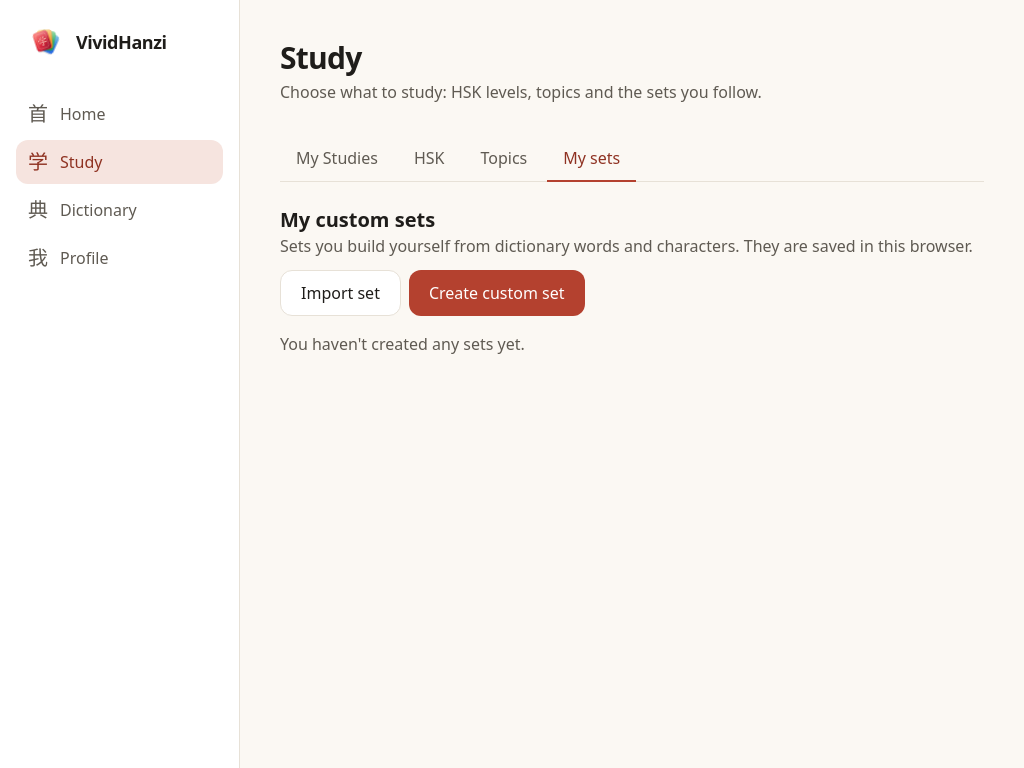
Test case: Custom sets › deletes the set after confirming and returns to the list
Click the link "Create custom set" at x=497, y=293, box [409,270,584,316]
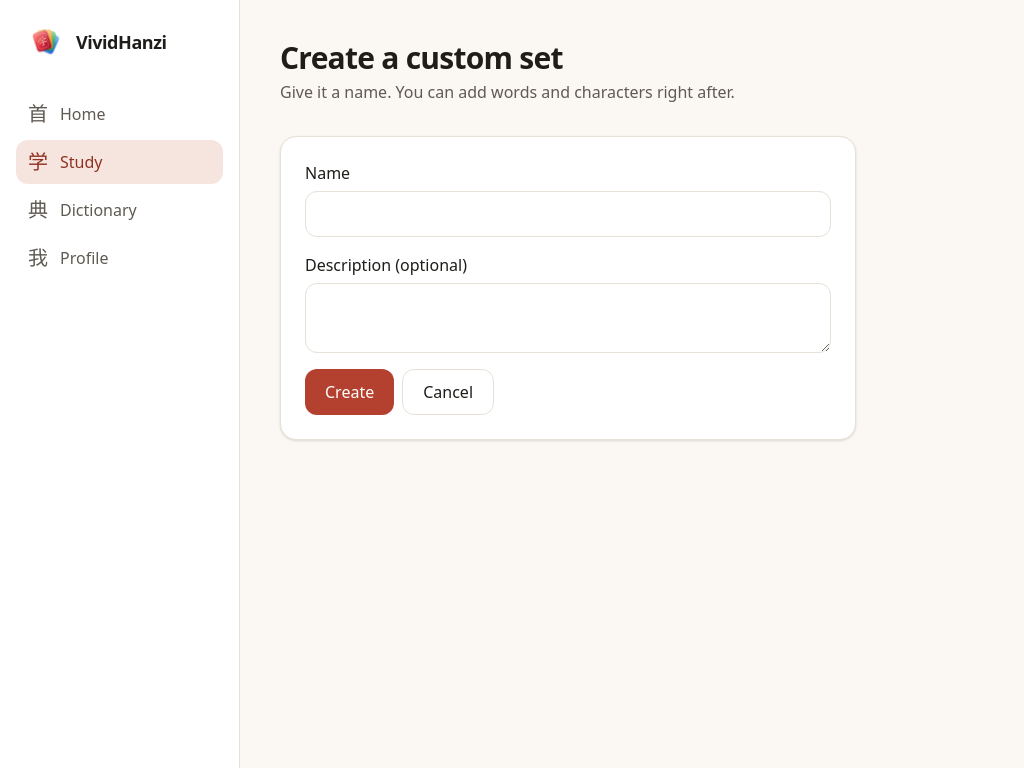
Type "Mine" into the field labelled "Name" at x=568, y=214, box [305,191,831,237]
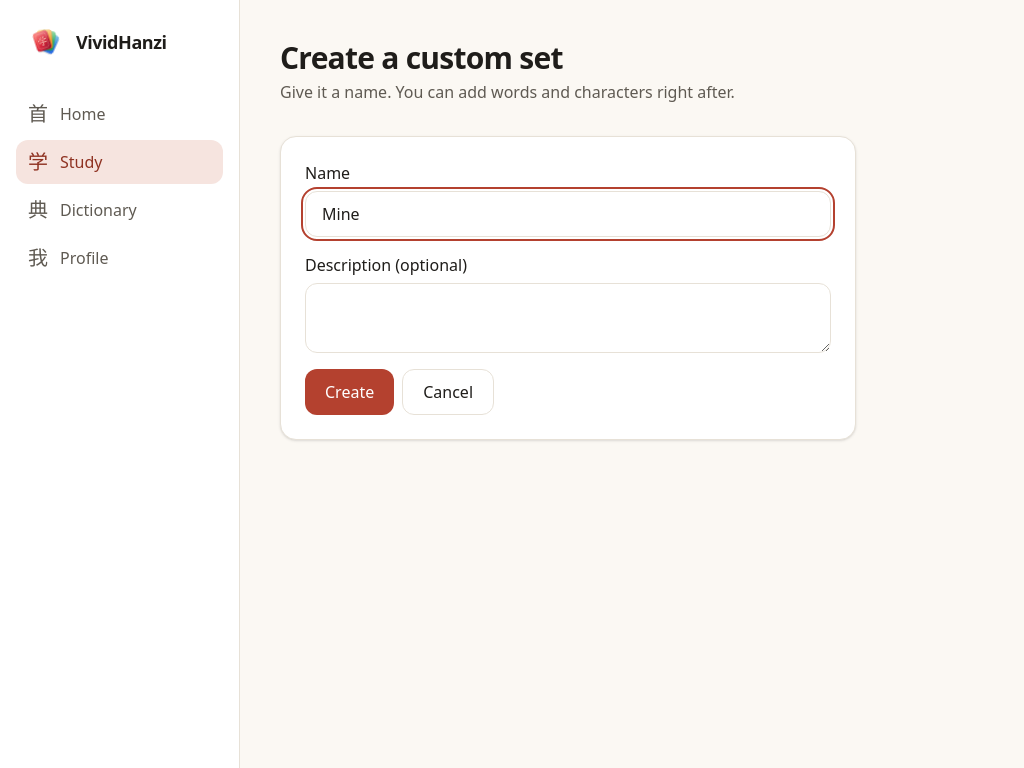
Click the button "Create" at x=350, y=392, box [305,369,394,415]
(page scrolled)
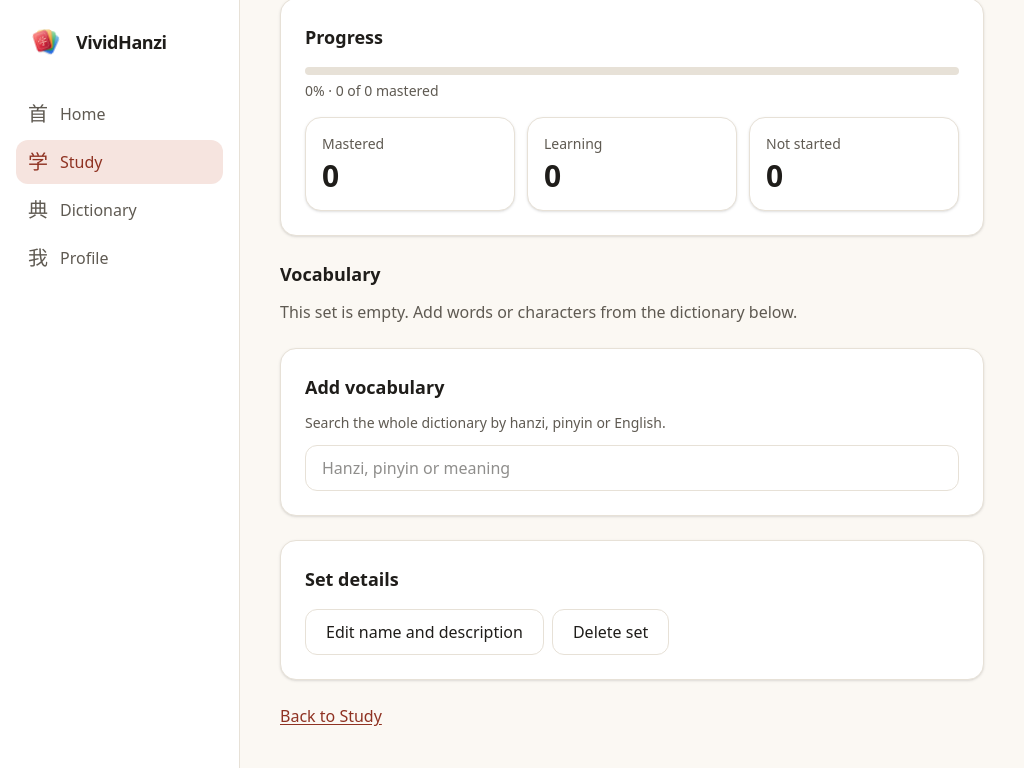
Click the button "Delete set" at x=611, y=632, box [552,609,669,655]
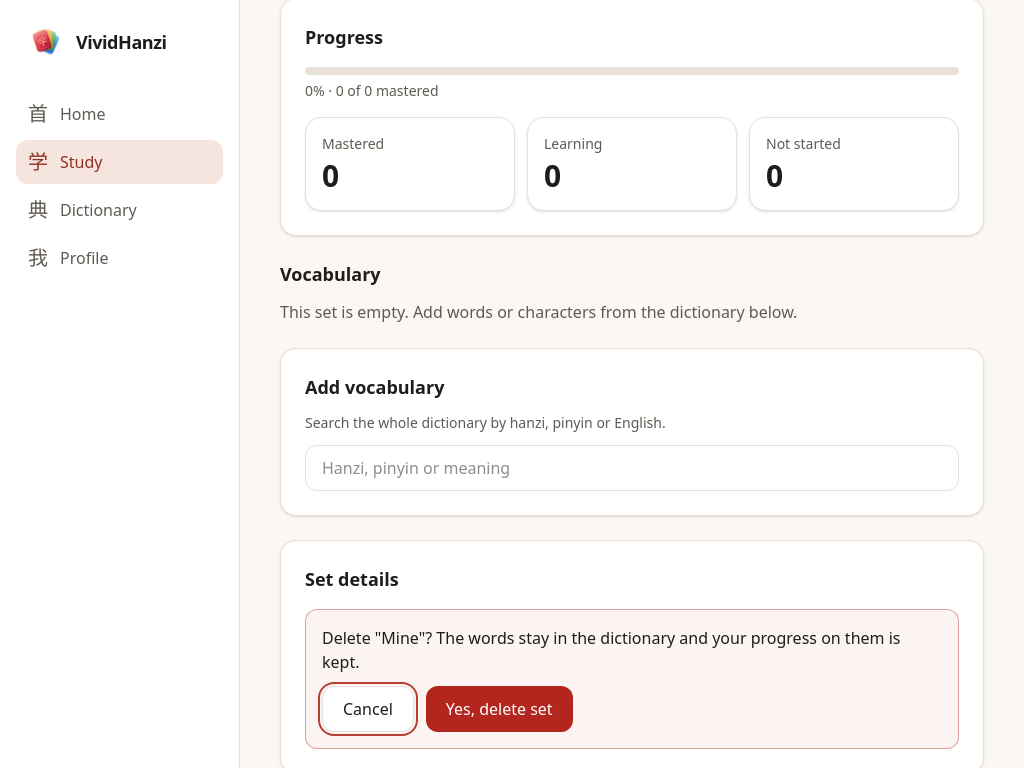
Click the button "Yes, delete set" at x=499, y=709, box [426,686,573,732]
(page scrolled)
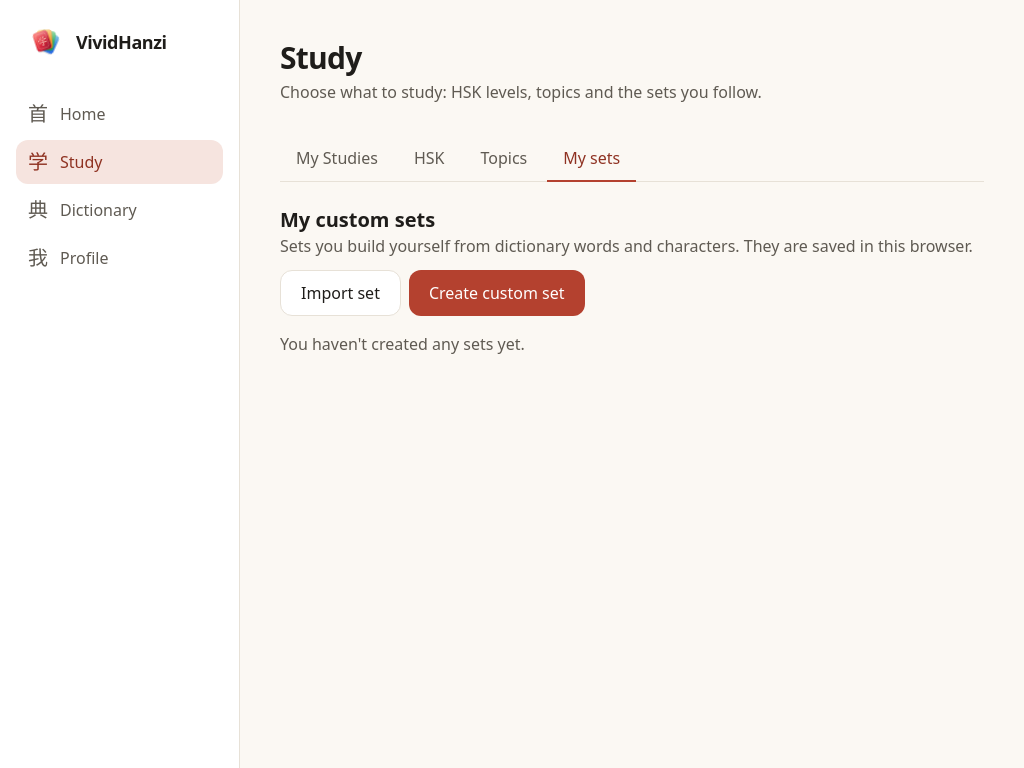
expect the text "You haven't created any sets yet." is shown: met, box [280,333,525,355]
